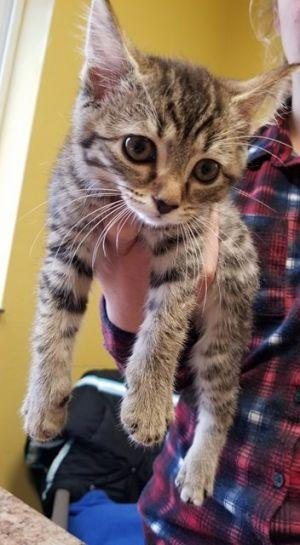bengal: (48, 1, 299, 248)
